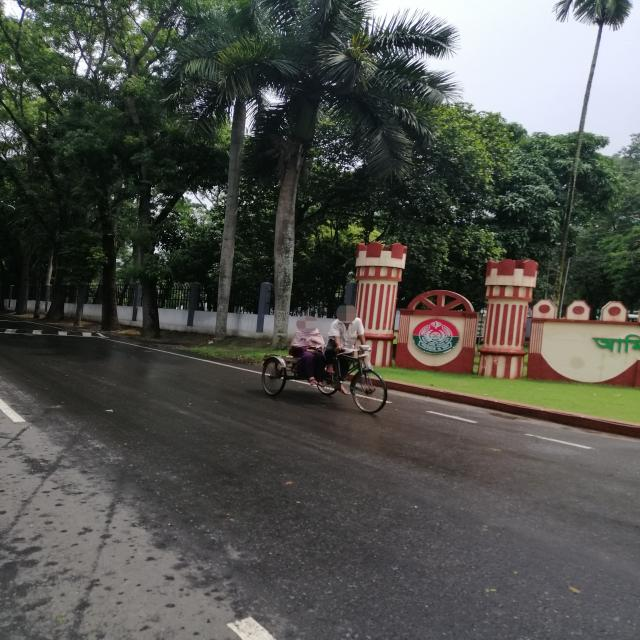Van: (243, 349, 412, 421)
